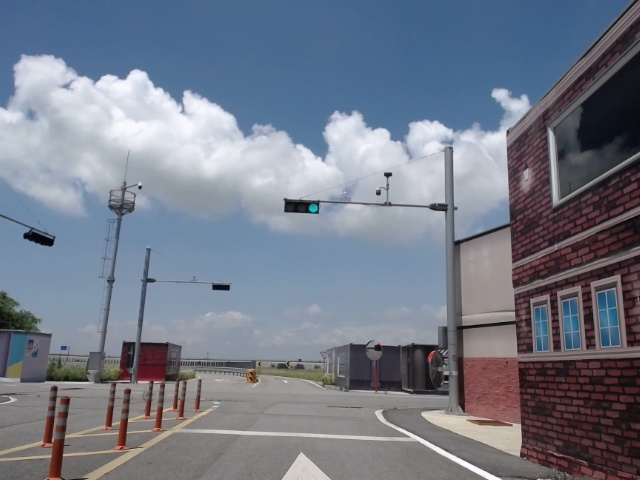green_3: (281, 196, 319, 214)
